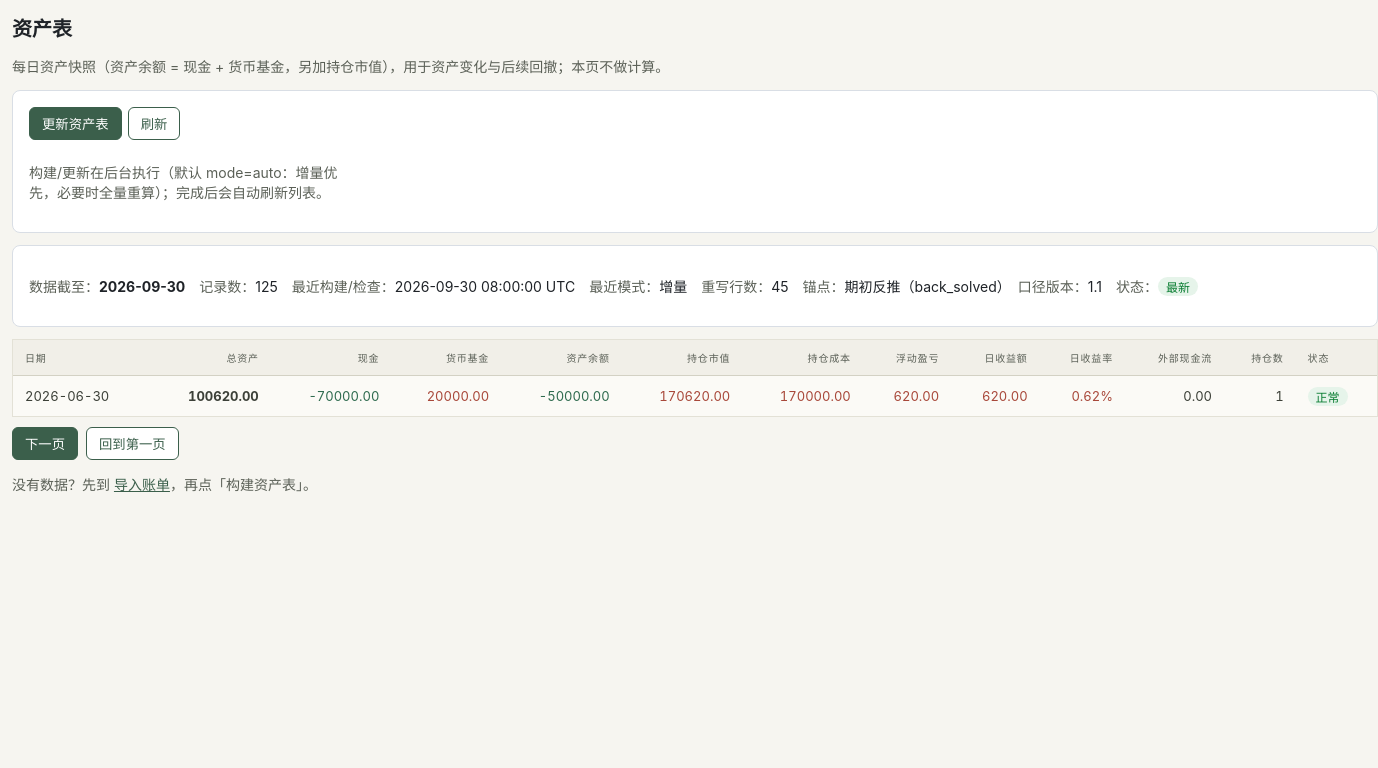
Test: Assets 资产表页 › FT-05 分页：请求带 cursor，追加不重复
Check: the text "2026-06-30" is shown, box [13, 376, 150, 416]
Click the button "下一页": (45, 444) [12, 427, 78, 460]
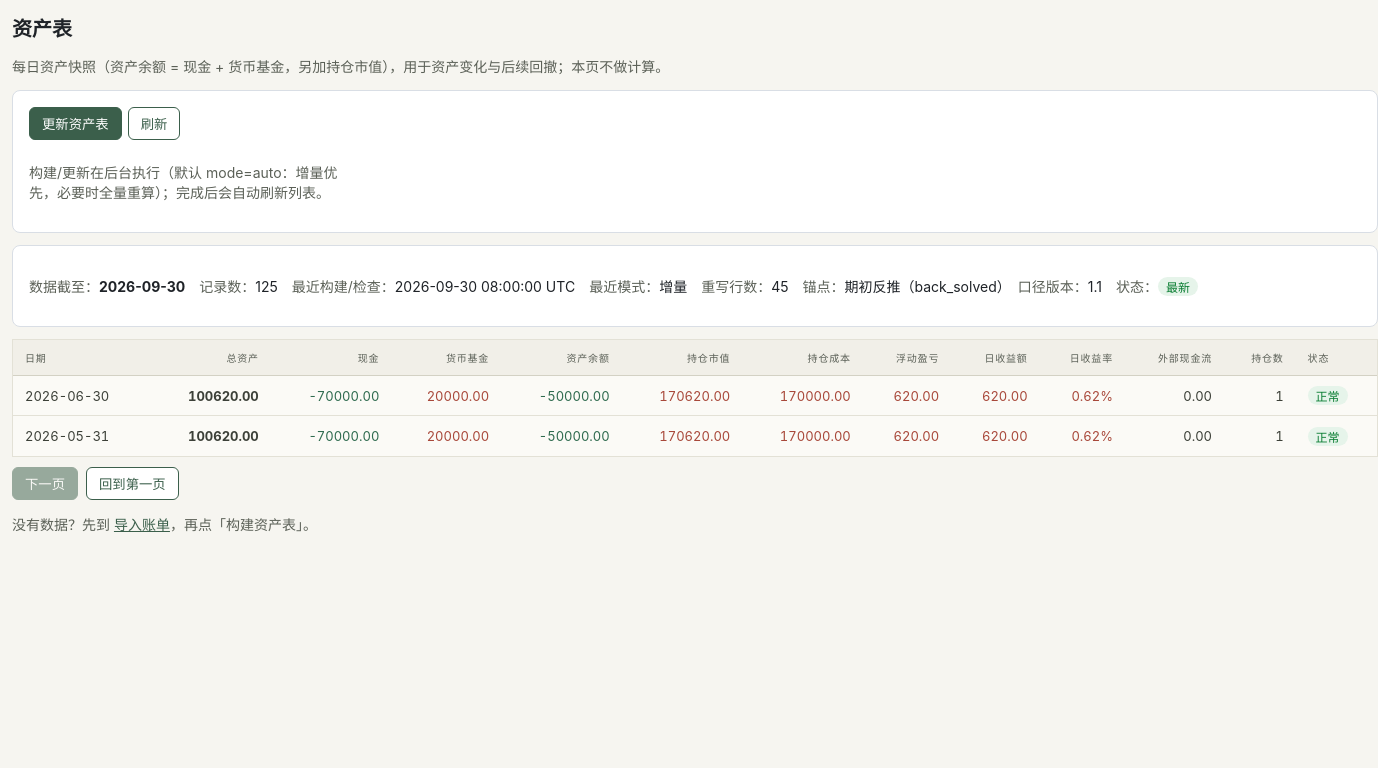
Check: the text "2026-05-31" is shown, box [13, 416, 150, 456]
Check: the text "2026-06-30" is shown once, box [13, 376, 150, 416]
